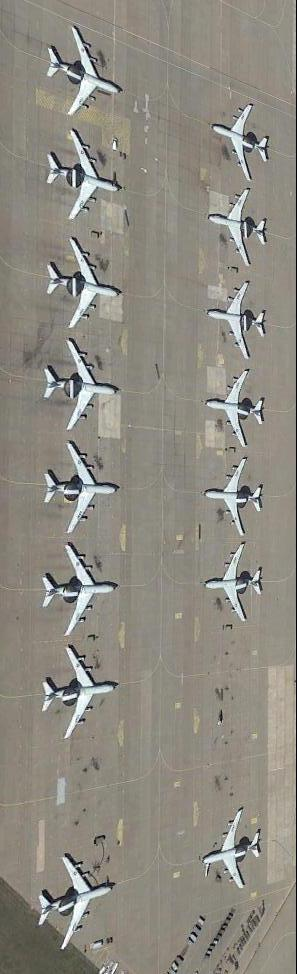E-3: (33, 848, 117, 954), (39, 541, 124, 638), (39, 644, 123, 742), (42, 241, 125, 333), (41, 339, 122, 433), (42, 444, 123, 536), (44, 28, 124, 120), (43, 130, 121, 223), (202, 802, 264, 896), (211, 99, 275, 187), (207, 185, 273, 270), (203, 454, 265, 542), (205, 367, 267, 453), (200, 545, 264, 623), (208, 284, 268, 361)
